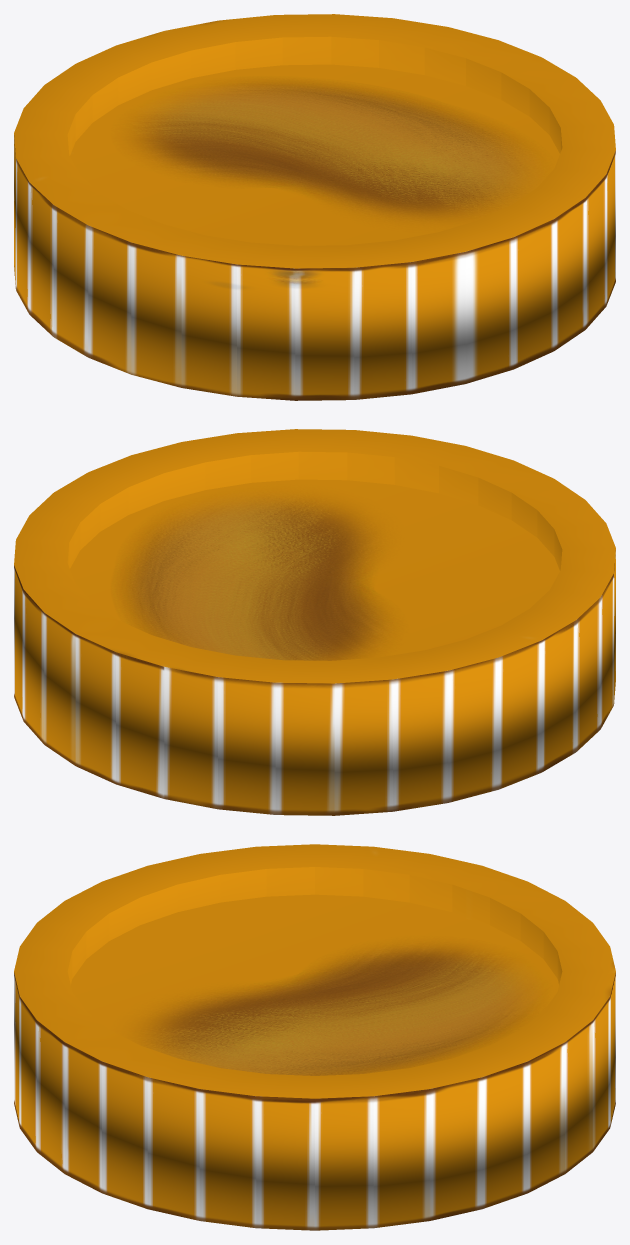
File: SBVCoin.fbx
3 renders of one model, top to bottom at view 1: azimuth 30°, elevation 25°; view 2: azimuth 150°, elevation 25°; view 3: azimuth 270°, elevation 25°, orthographic.
Visible parts, largest first — view 1: Cylinder; view 2: Cylinder; view 3: Cylinder.
Boxes of the visible parts, x1,y1,x2,y2 form: Cylinder: (14,14,615,400); Cylinder: (14,429,615,815); Cylinder: (14,844,615,1230).
Bounding box in the file's own units: 200 × 48.4 × 200.
